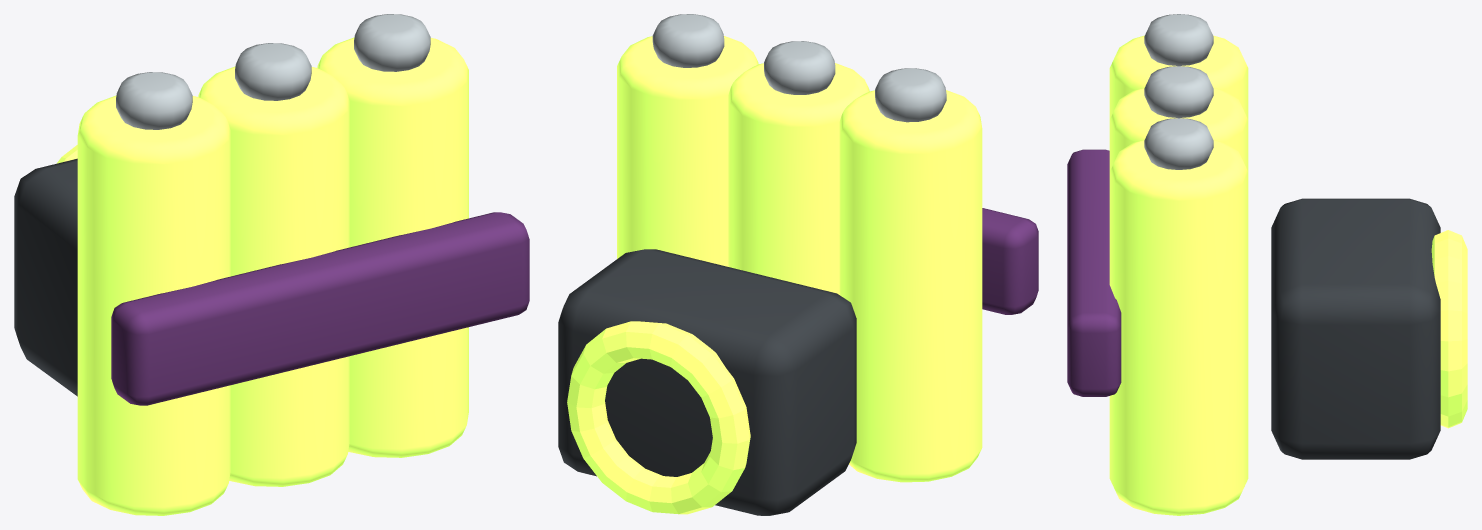
File: module-battery.glb
3 views of the same model, side by side, from view 1: azimuth 30°, elevation 25°; view 2: azimuth 150°, elevation 25°; view 3: azimuth 270°, elevation 25° (orthographic). The views are drawn at different scales.
Visible parts, largest first — view 1: Battery cell, Battery strap, Battery cell.002, Battery cell.001, Universal connector.007, Battery contact.001, Battery contact, Battery contact.002; view 2: Battery cell, Universal connector.007, Battery cell.002, Battery cell.001, Standard attachment ring.007, Battery strap, Battery contact.002, Battery contact, Battery contact.001; view 3: Battery cell.002, Universal connector.007, Battery strap, Standard attachment ring.007, Battery cell.001, Battery cell, Battery contact, Battery contact.001, Battery contact.002.
Boxes of the visible parts, bbox=[...] form: Battery cell: bbox=[77, 95, 230, 515]; Battery strap: bbox=[111, 212, 529, 405]; Battery cell.002: bbox=[317, 37, 468, 457]; Battery cell.001: bbox=[198, 66, 349, 486]; Universal connector.007: bbox=[14, 158, 77, 396]; Battery contact.001: bbox=[235, 43, 311, 100]; Battery contact: bbox=[116, 72, 192, 129]; Battery contact.002: bbox=[354, 14, 430, 71]; Battery cell: bbox=[839, 90, 982, 482]; Universal connector.007: bbox=[558, 249, 856, 515]; Battery cell.002: bbox=[617, 36, 758, 266]; Battery cell.001: bbox=[728, 63, 869, 294]; Standard attachment ring.007: bbox=[567, 321, 750, 514]; Battery strap: bbox=[982, 208, 1038, 314]; Battery contact.002: bbox=[652, 14, 724, 67]; Battery contact: bbox=[875, 68, 946, 122]; Battery contact.001: bbox=[764, 41, 835, 94]; Battery cell.002: bbox=[1109, 139, 1248, 515]; Universal connector.007: bbox=[1271, 198, 1440, 459]; Battery strap: bbox=[1067, 149, 1121, 396]; Standard attachment ring.007: bbox=[1431, 230, 1467, 428]; Battery cell.001: bbox=[1109, 87, 1248, 171]; Battery cell: bbox=[1109, 35, 1248, 119]; Battery contact: bbox=[1144, 14, 1213, 65]; Battery contact.001: bbox=[1144, 66, 1213, 117]; Battery contact.002: bbox=[1144, 118, 1213, 169].
Size of the model in its own units: 0.54 by 0.525 by 0.52.
